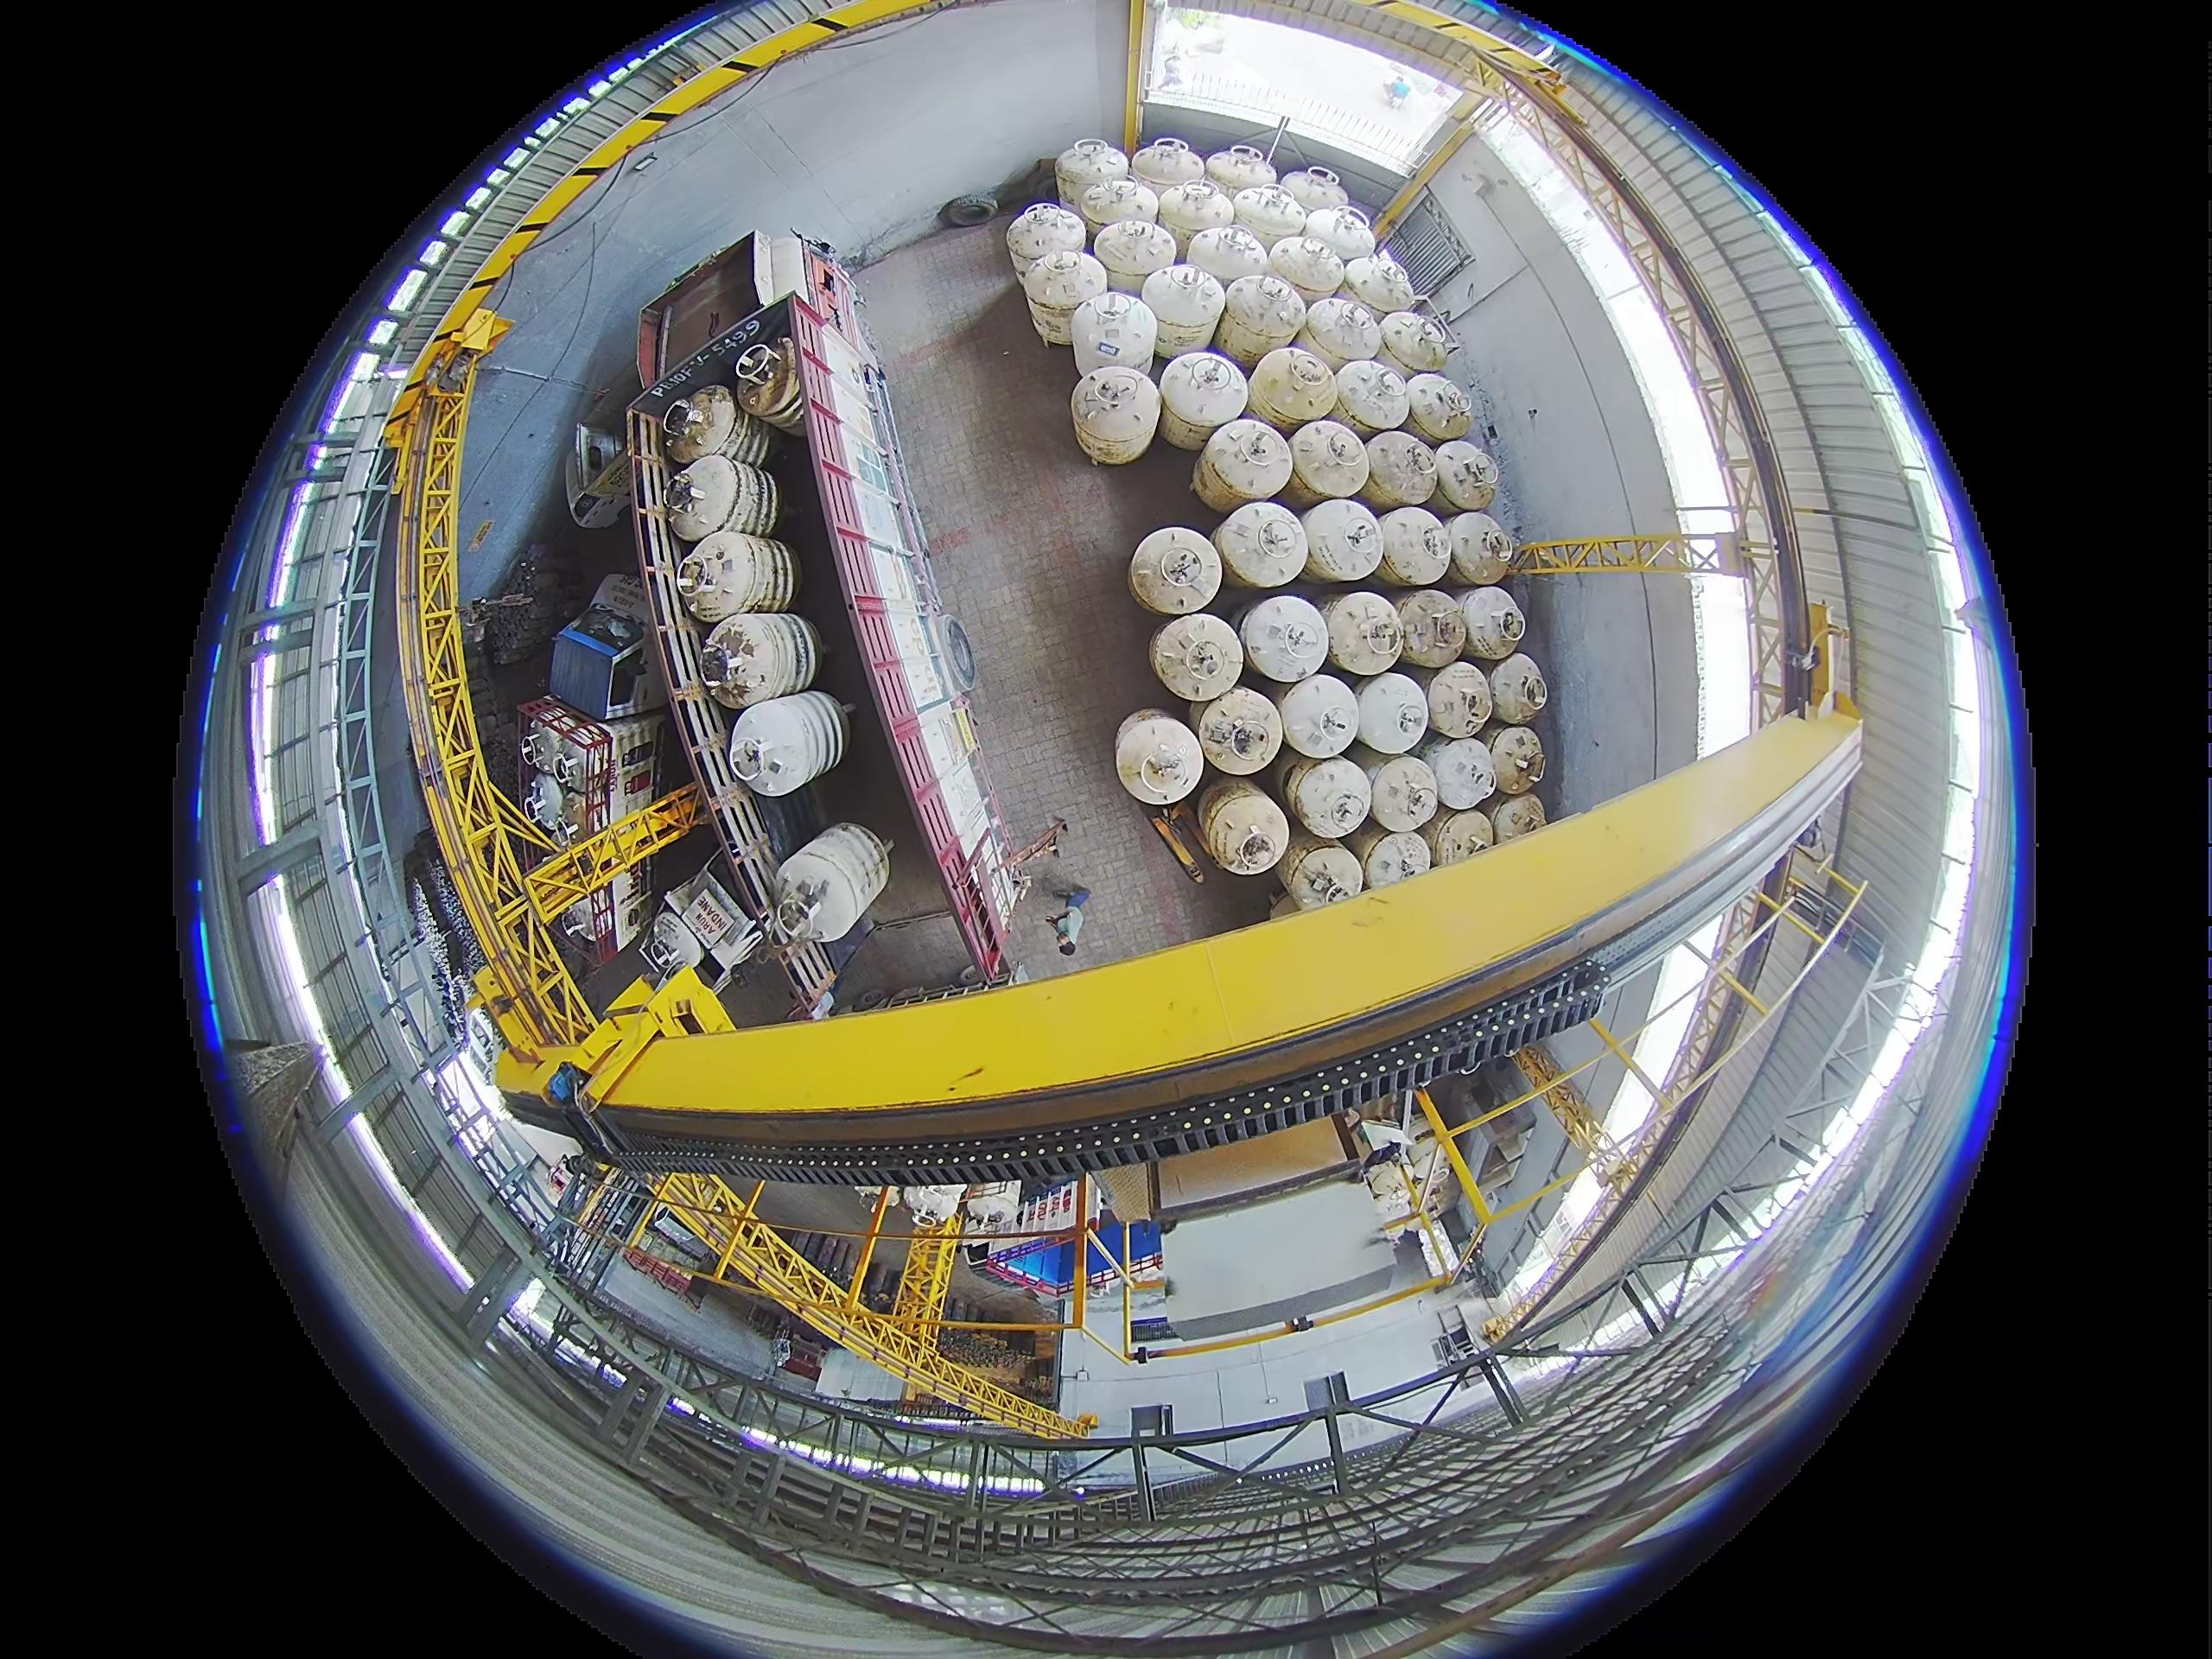cylinder: (1219, 498, 1366, 605), (700, 608, 822, 704), (678, 528, 799, 617), (1073, 368, 1157, 491), (665, 453, 780, 542), (665, 382, 773, 471), (1197, 781, 1292, 878), (1148, 612, 1244, 704), (1129, 526, 1224, 617), (1197, 418, 1292, 509), (1216, 270, 1305, 366), (1237, 594, 1329, 685), (1158, 357, 1249, 450), (1247, 345, 1338, 436), (1141, 261, 1226, 357), (1017, 249, 1099, 349), (1278, 671, 1366, 762), (1282, 756, 1374, 842), (1195, 690, 1284, 777), (1289, 418, 1372, 505), (1069, 289, 1153, 376), (1322, 592, 1406, 678), (1353, 671, 1432, 758), (735, 338, 805, 434), (1188, 220, 1275, 295), (1275, 836, 1364, 910), (1376, 502, 1453, 586), (1362, 430, 1440, 511), (1155, 179, 1237, 256), (1393, 589, 1470, 669), (1367, 755, 1444, 835), (1425, 660, 1500, 742), (1332, 359, 1411, 436), (1303, 295, 1383, 369), (1423, 735, 1498, 814), (1094, 216, 1174, 284), (1446, 509, 1515, 586), (1458, 586, 1527, 662), (1007, 202, 1083, 272), (1266, 232, 1345, 300), (1400, 371, 1472, 444), (1080, 178, 1157, 246), (1231, 185, 1308, 253), (1379, 310, 1453, 380), (1055, 139, 1129, 209), (1432, 439, 1500, 512), (1420, 805, 1494, 870), (1301, 204, 1376, 268), (1341, 253, 1416, 315), (1359, 828, 1435, 889), (1484, 653, 1548, 725), (1484, 723, 1547, 796), (1129, 138, 1204, 199), (1204, 145, 1277, 197), (1280, 167, 1348, 216), (1489, 791, 1548, 845)
truck: (604, 258, 1024, 988), (526, 568, 657, 979), (646, 864, 758, 993), (563, 572, 662, 704), (561, 368, 639, 532), (463, 1004, 505, 1080), (524, 772, 566, 833)
